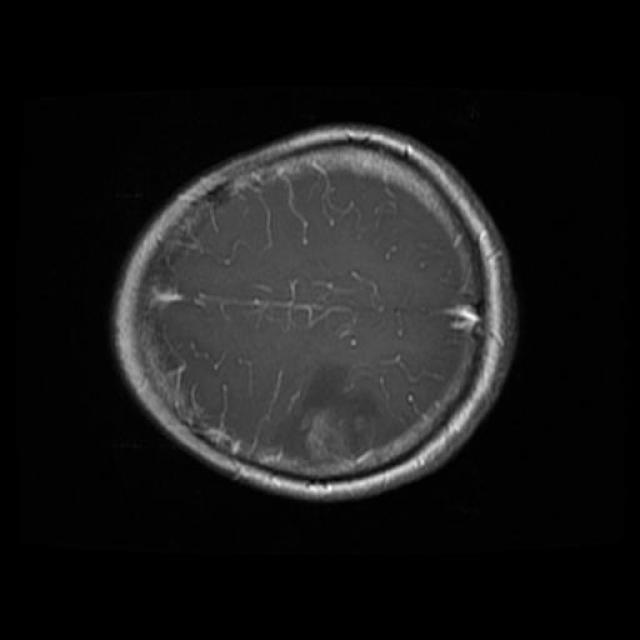Glioma: (277, 365, 400, 476)
